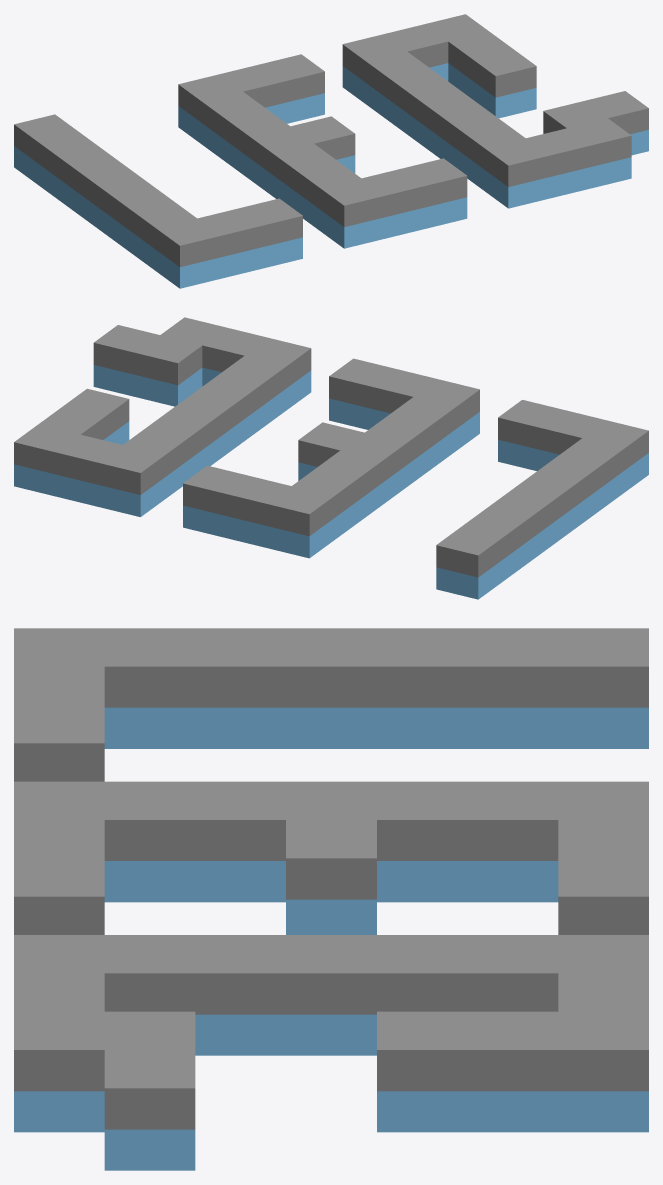
File: Leg16.fbx
The picture shows the model from 3 angles, top to bottom: view 1: azimuth 30°, elevation 25°; view 2: azimuth 150°, elevation 25°; view 3: azimuth 270°, elevation 25°; orthographic projection. The views are drawn at different scales.
Parts seen in each view (by area): view 1: Leg16; view 2: Leg16; view 3: Leg16.
Boxes of the visible parts, box(x1,y1,x2,y2) form: Leg16: box(14, 14, 648, 288); Leg16: box(14, 317, 648, 599); Leg16: box(14, 628, 648, 1170).
Bounding box in the file's own units: 120 × 10 × 70.
